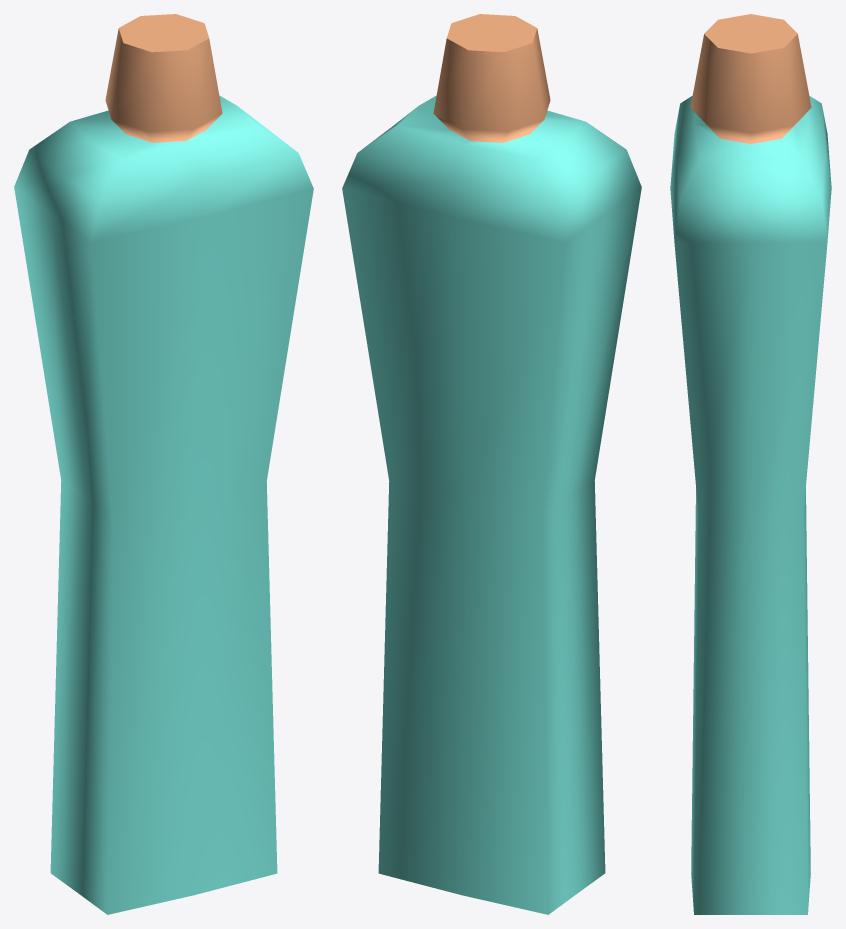
The model's file is BAR_LiqourBottle15_Body.fbx.
3 views of the same model, side by side, from view 1: azimuth 30°, elevation 25°; view 2: azimuth 150°, elevation 25°; view 3: azimuth 270°, elevation 25° (orthographic).
Visible parts, largest first — view 1: Bottle15_Body; view 2: Bottle15_Body; view 3: Bottle15_Body.
Part boxes in pixels (left/top/right/bottom): Bottle15_Body: left=14, top=14, right=313, bottom=914; Bottle15_Body: left=342, top=14, right=641, bottom=914; Bottle15_Body: left=670, top=14, right=831, bottom=914.
Bounding box in the file's own units: 8.02 × 28.74 × 5.01.
